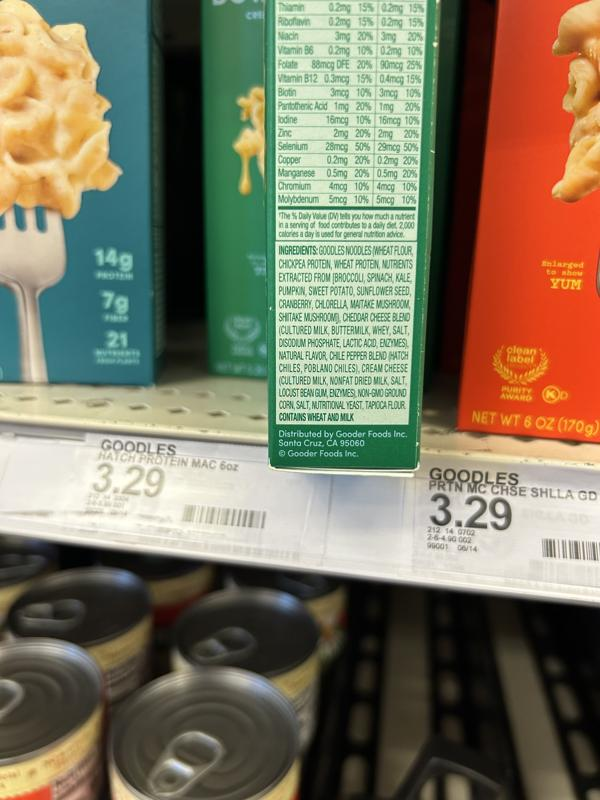ingredients: (277, 243, 415, 412)
